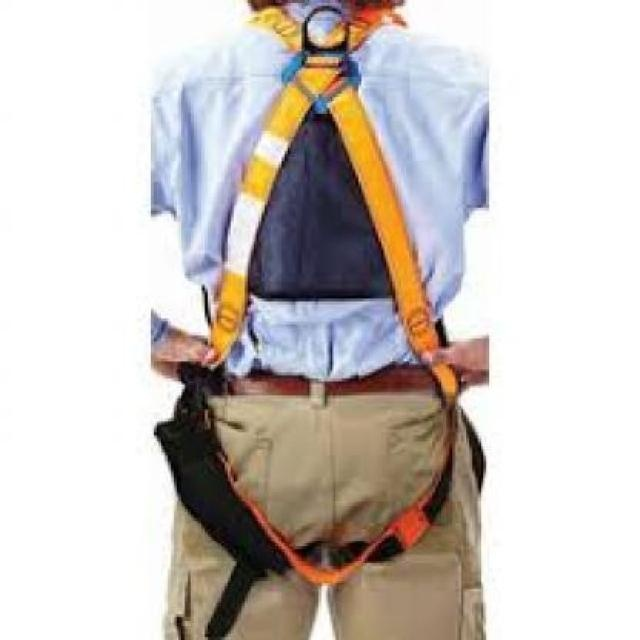Arnes_seguridad: (150, 8, 489, 590)
